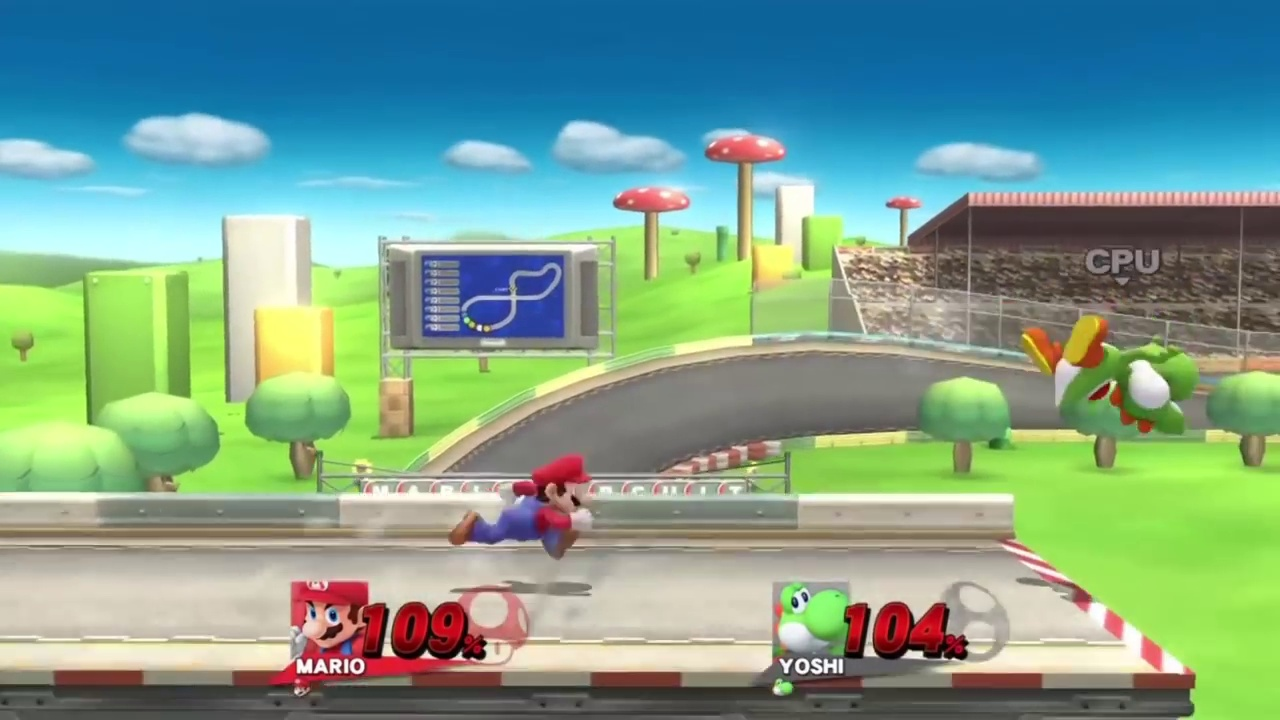Mario: (451, 456, 592, 559)
